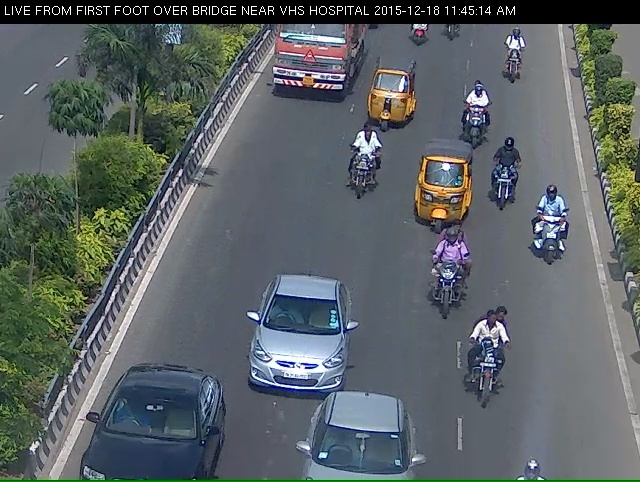Auto: (404, 159, 476, 246), (361, 60, 414, 138)
Bus: (263, 21, 368, 108)
Car: (246, 278, 359, 413), (86, 378, 220, 479), (301, 417, 423, 480)
Person: (468, 320, 508, 426), (430, 239, 465, 334), (537, 197, 570, 283), (453, 84, 493, 154), (347, 134, 378, 211), (488, 155, 518, 221), (501, 39, 525, 88)
